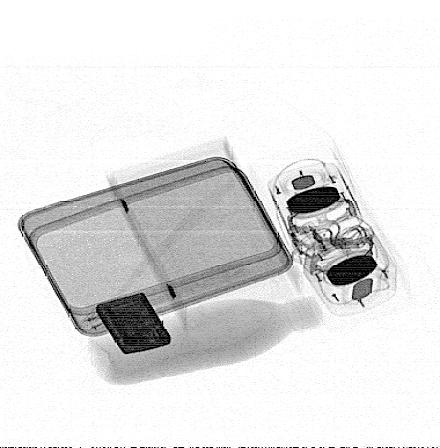Lighter: (96, 292, 172, 355)
